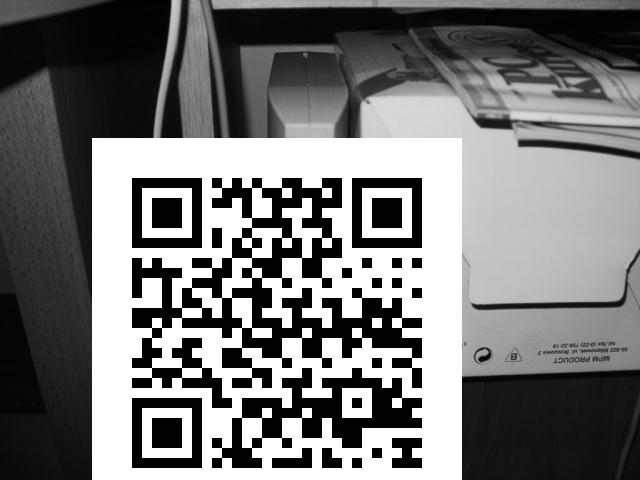qr_code: (92, 138, 461, 479)
